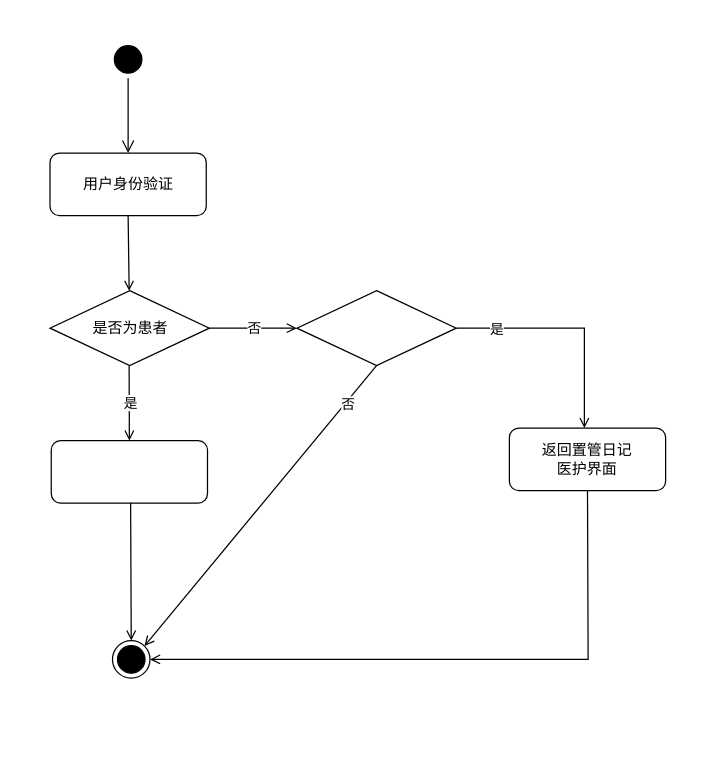
Some shapes in this 705 by 761 pixel diagram are drawn without their labels. Each missing label, with the centre of its shape:
是否已关注患者: (x=376, y=327)
返回置管日记 患者界面: (x=129, y=471)
